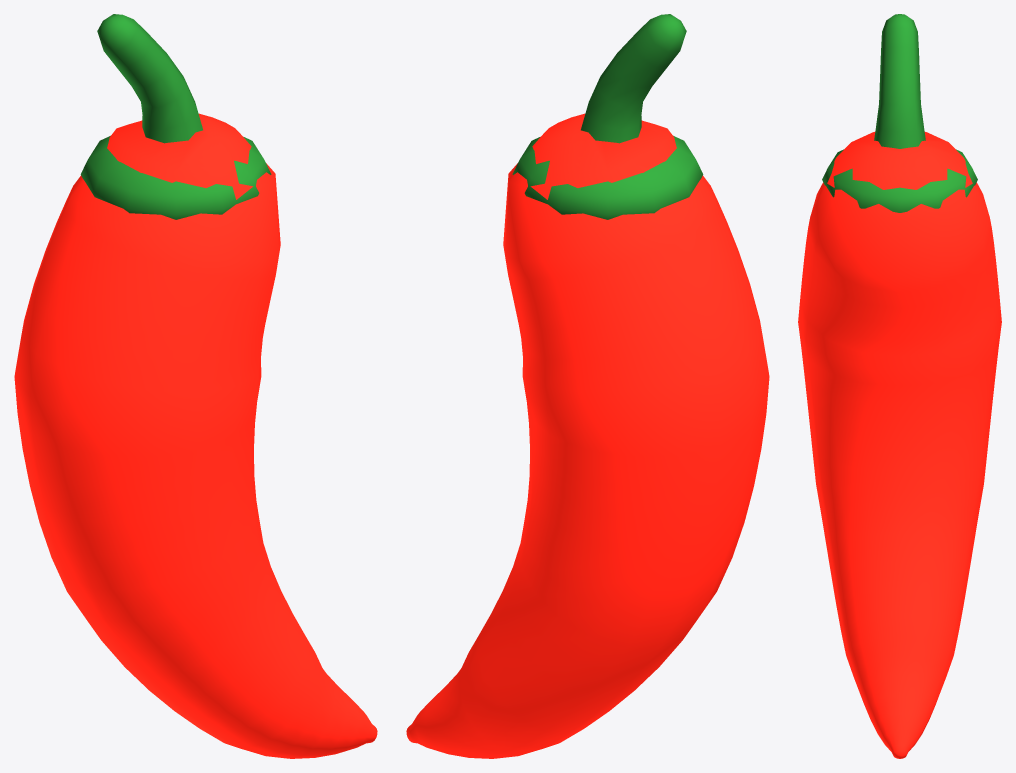
Rendered from chili.glb.
3 renders of one model, left to right at view 1: azimuth 30°, elevation 25°; view 2: azimuth 150°, elevation 25°; view 3: azimuth 270°, elevation 25°, orthographic. The views are drawn at different scales.
Parts seen in each view (by area): view 1: Chili; view 2: Chili; view 3: Chili.
Boxes of the visible parts, <box> form: Chili: <box>14,14,377,758</box>; Chili: <box>406,14,769,758</box>; Chili: <box>798,14,1001,758</box>.
Size of the model in its own units: 0.5445 by 1.18 by 0.34.
